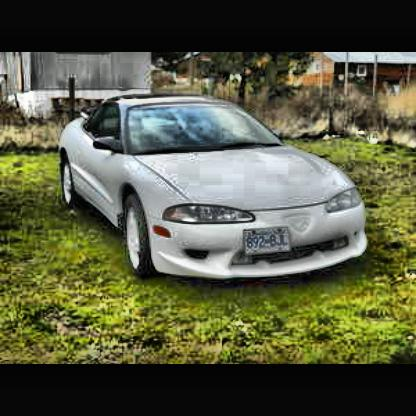Eagle Talon Hatchback 1998: (62, 99, 372, 284)
